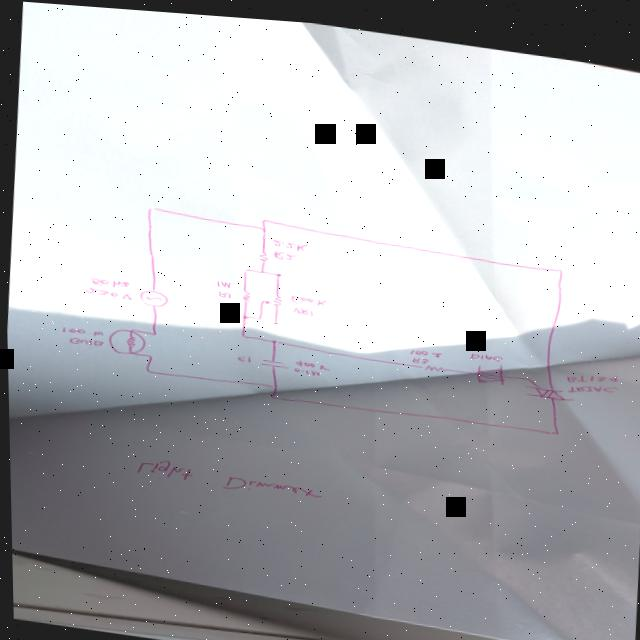capacitor: (255, 353, 287, 364)
junction: (544, 421, 558, 428), (143, 202, 155, 209), (142, 364, 152, 372), (268, 314, 278, 321), (266, 378, 276, 385), (553, 257, 562, 264), (267, 334, 277, 340), (257, 212, 265, 219), (252, 311, 260, 317), (271, 267, 279, 273), (257, 222, 265, 228), (148, 328, 156, 334), (143, 350, 151, 356), (519, 366, 527, 372), (238, 310, 246, 315), (237, 329, 245, 334), (256, 265, 264, 270), (239, 264, 246, 268), (266, 390, 273, 394)
resistor: (256, 288, 282, 303), (416, 356, 446, 366), (254, 245, 268, 259), (238, 285, 251, 298)
source: (134, 283, 167, 306)
text: (131, 452, 319, 496), (561, 357, 614, 378), (562, 370, 616, 389), (81, 283, 132, 298), (86, 273, 129, 288), (58, 323, 102, 337), (266, 232, 307, 247), (286, 288, 325, 303), (65, 333, 102, 347), (290, 354, 328, 365), (466, 343, 501, 354), (406, 341, 440, 351), (270, 245, 296, 257), (289, 361, 317, 371), (288, 300, 312, 311), (212, 275, 231, 285), (213, 285, 230, 295), (233, 348, 250, 358), (408, 349, 426, 357)
